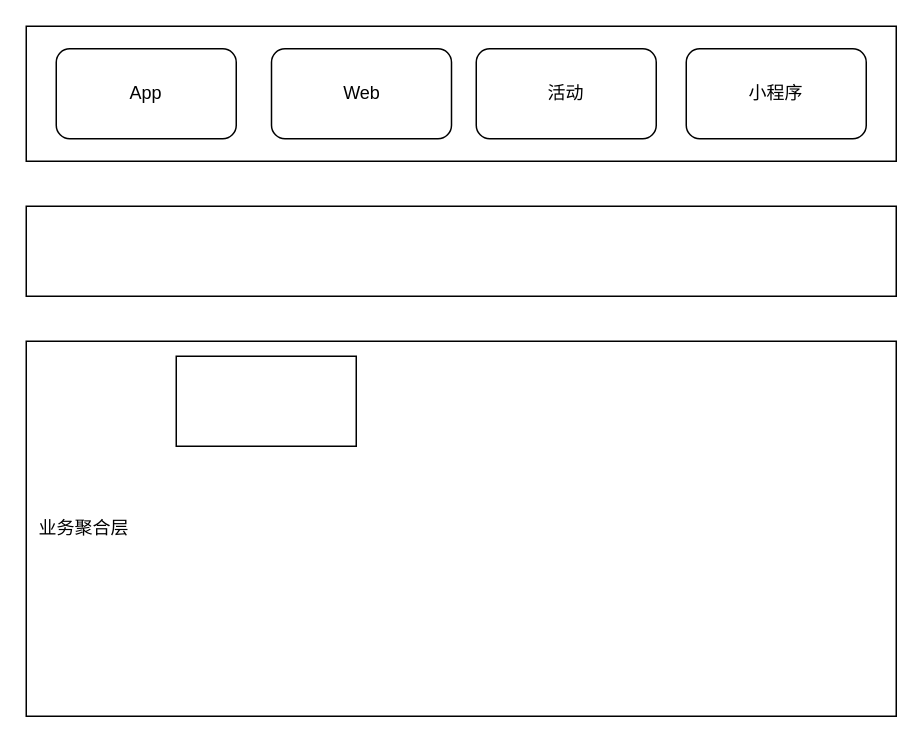
Some shapes in this 923 by 743 pixel diagram are drawn without their labels. Here are the shapes that lost their labels. From the top down, the centre of each, then its label:
point (460, 250): 网关 ApiGateway/Argus-Api-路由、授权、协议转抽象、流控、灰度
point (265, 400): 用户域
